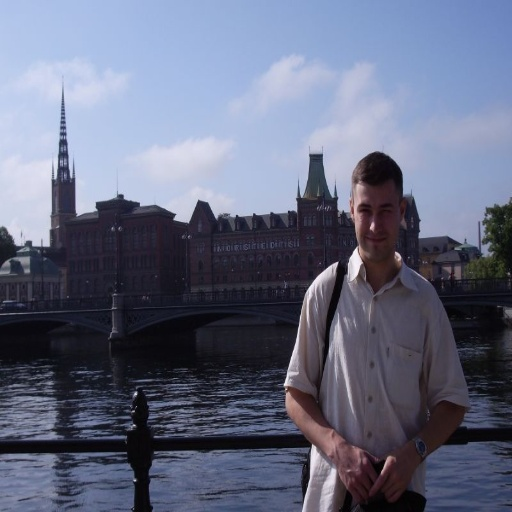hand: (308, 428, 429, 500), (368, 451, 412, 502)
